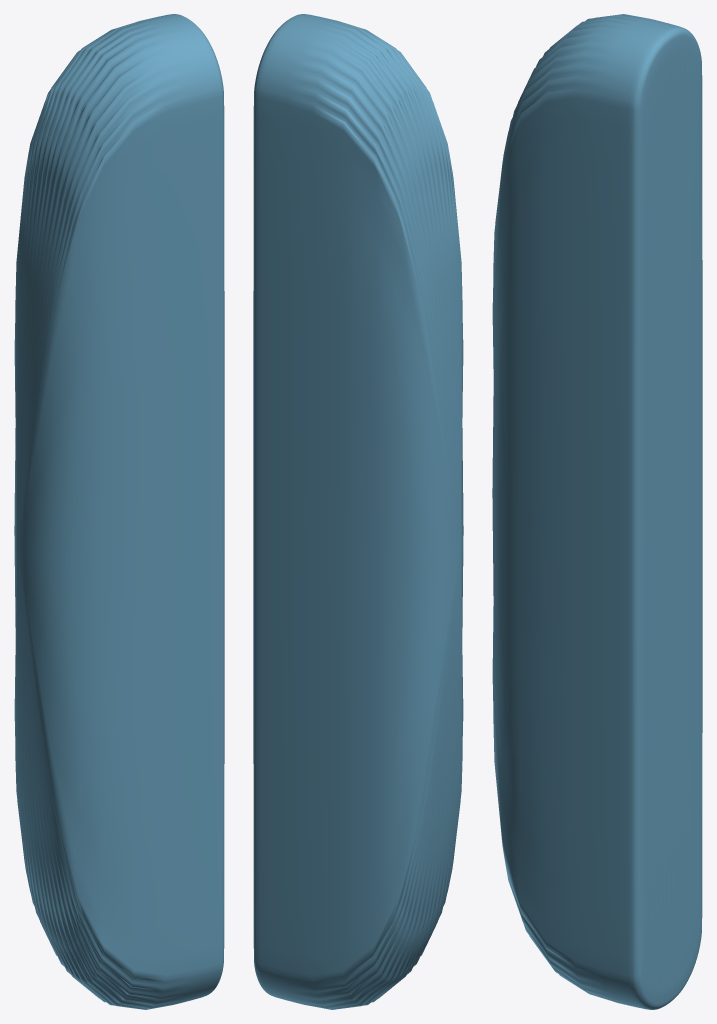
The model's file is power.glb.
3 views of the same model, side by side, from view 1: azimuth 30°, elevation 25°; view 2: azimuth 150°, elevation 25°; view 3: azimuth 330°, elevation 25° (orthographic).
Visible parts, largest first — view 1: power; view 2: power; view 3: power.
Part boxes in pixels (bbox=[...]): power: bbox=[14, 14, 224, 1009]; power: bbox=[253, 14, 463, 1009]; power: bbox=[492, 14, 702, 1009].
Size of the model in its own units: 0.00295 by 0.0155 by 0.00199.
